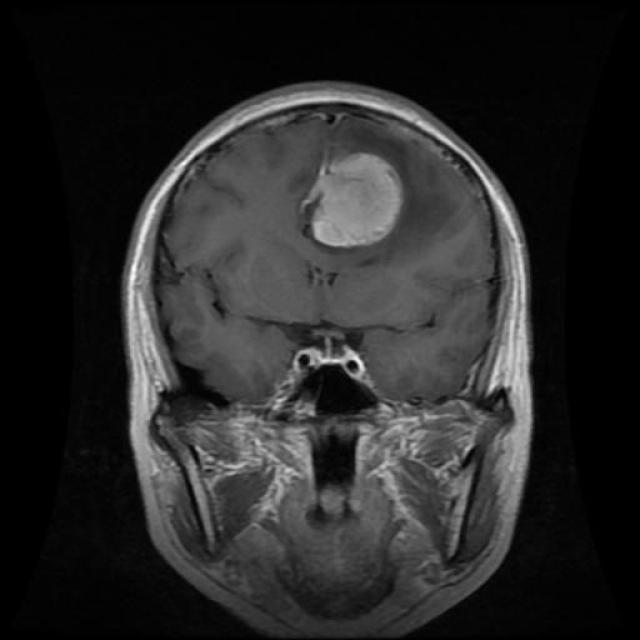meningioma: (310, 152, 404, 249)
